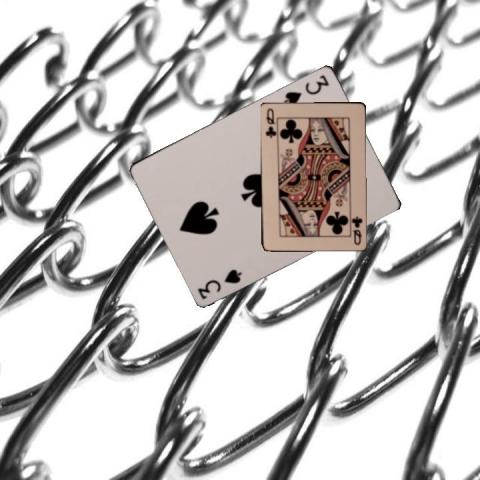3s: (281, 71, 331, 107), (195, 265, 243, 301)
Qc: (262, 106, 276, 139), (349, 213, 363, 246)
